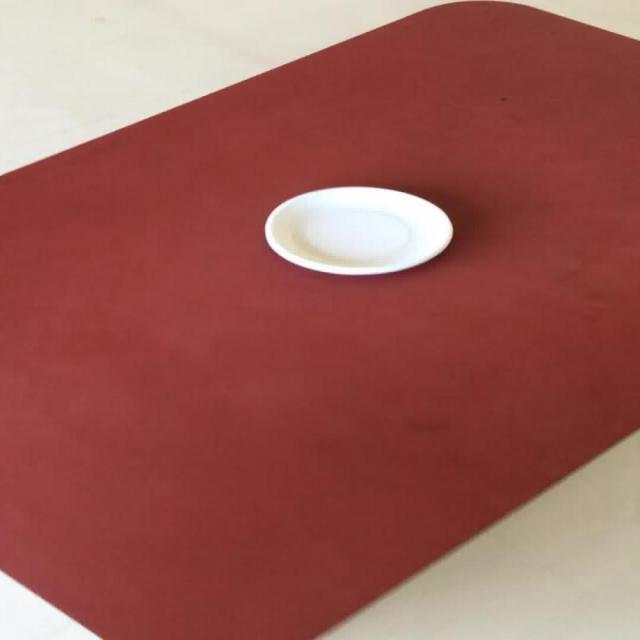Plate: (262, 185, 454, 276)
